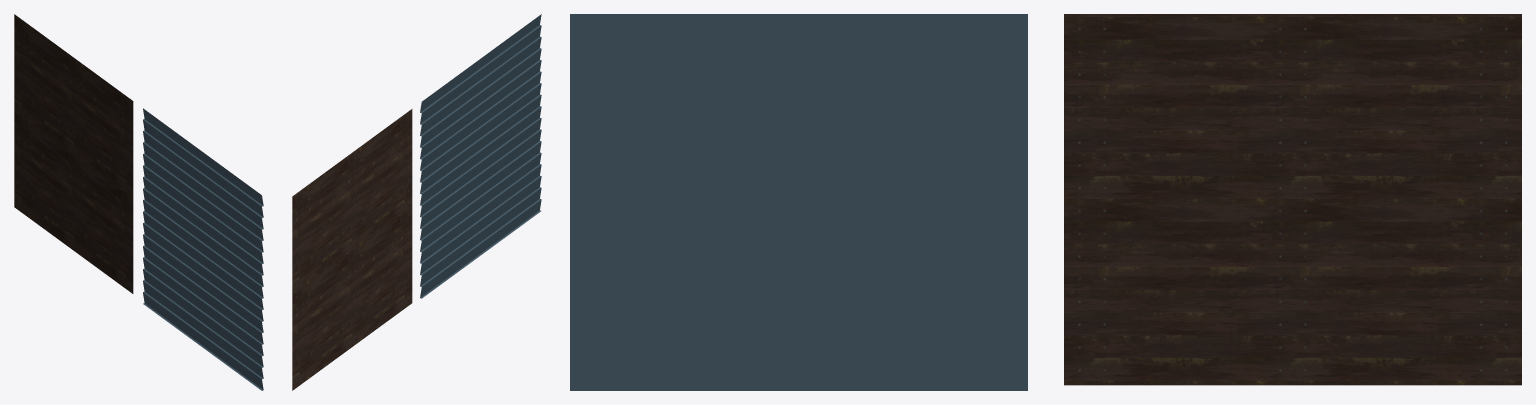
Rendered from SidingTest1.obj.
3 renders of one model, left to right at view 1: azimuth 30°, elevation 25°; view 2: azimuth 150°, elevation 25°; view 3: azimuth 270°, elevation 25°, orthographic. The views are drawn at different scales.
Size of the model in its own units: 0.9479 by 103 by 237.
2 materials, 2 textured.
